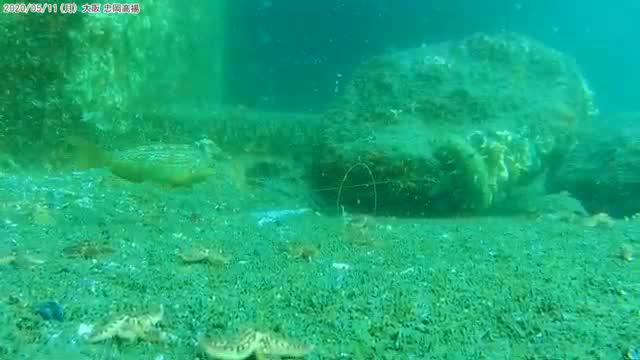smallfish: (90, 136, 212, 191)
